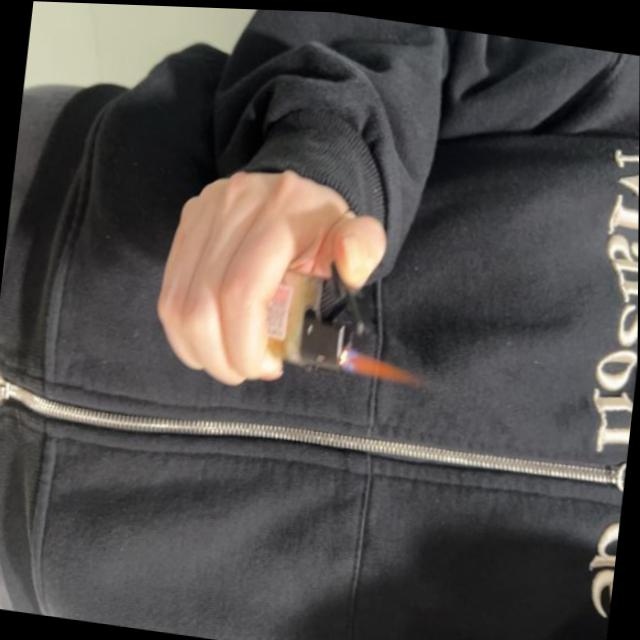Fire: (340, 340, 425, 383)
